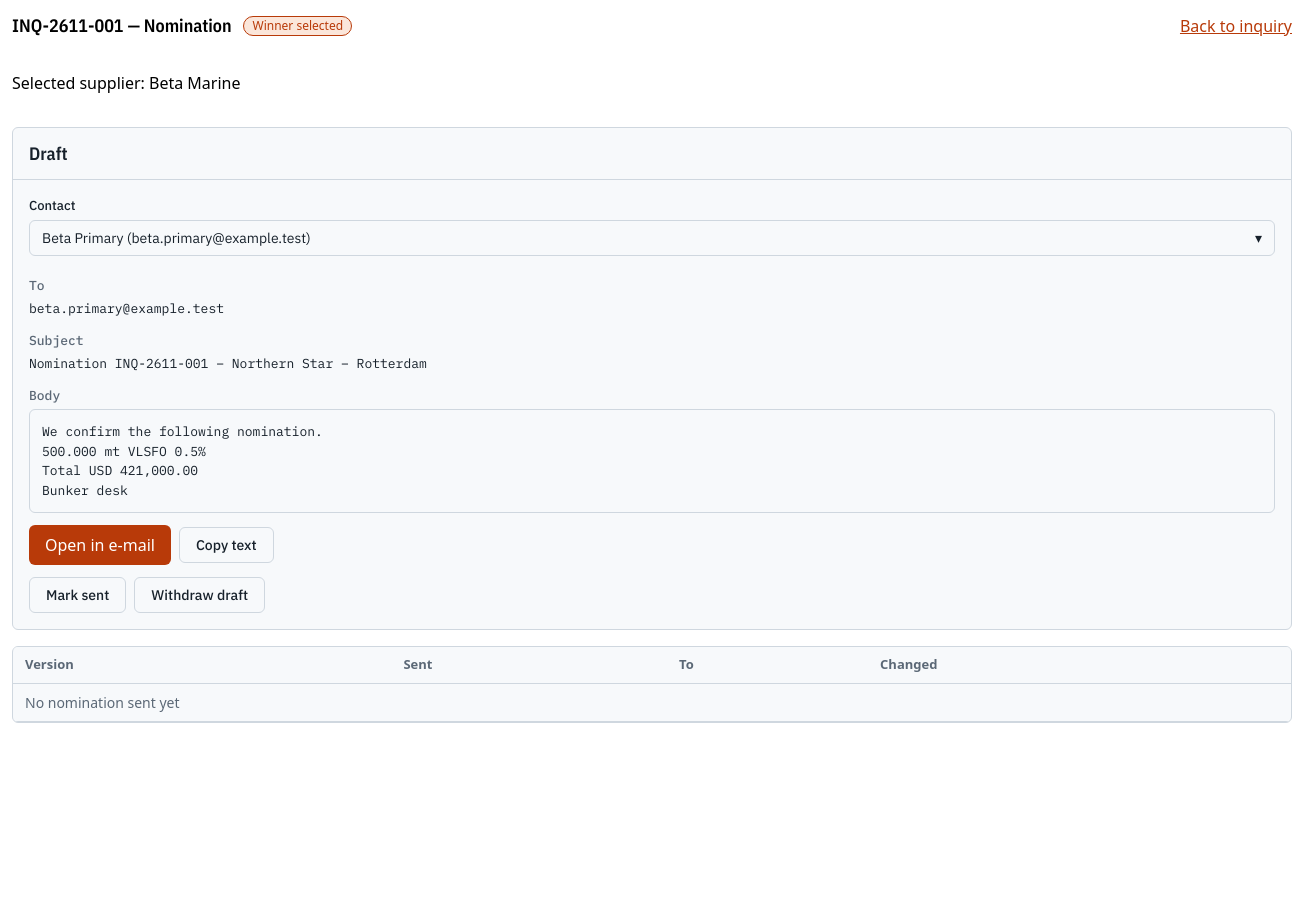
it: Nomination changes › [B5-R11] Mark sent needs a confirm, then the inquiry shows Nominated
The image size is (1304, 912).
Expected: the text "Winner selected" is shown, [244,16,352,36]
Click the button "Mark sent" at (78,595), box [29,577,126,613]
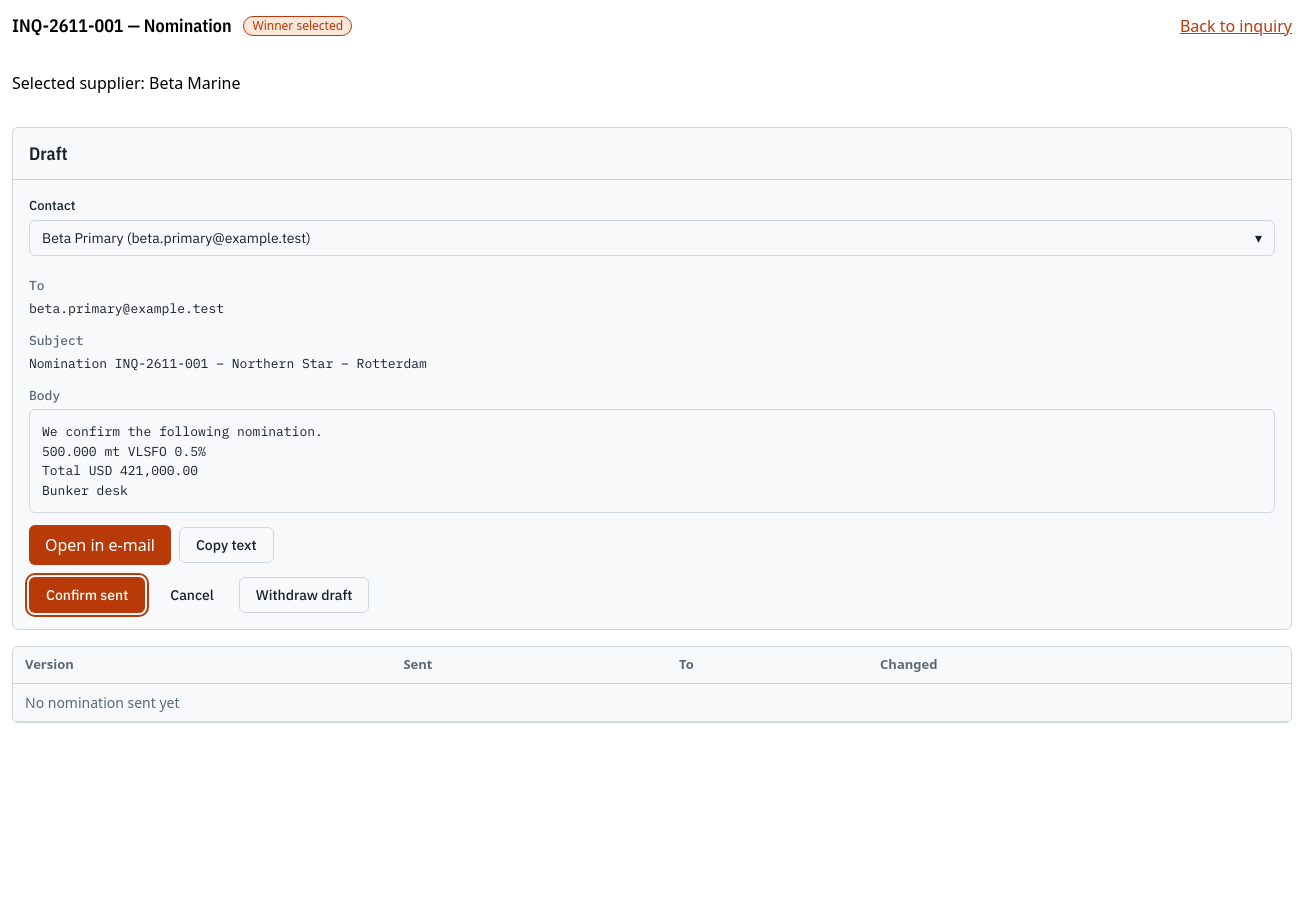
Click the button "Confirm sent" at (87,595), box [29,577,145,613]
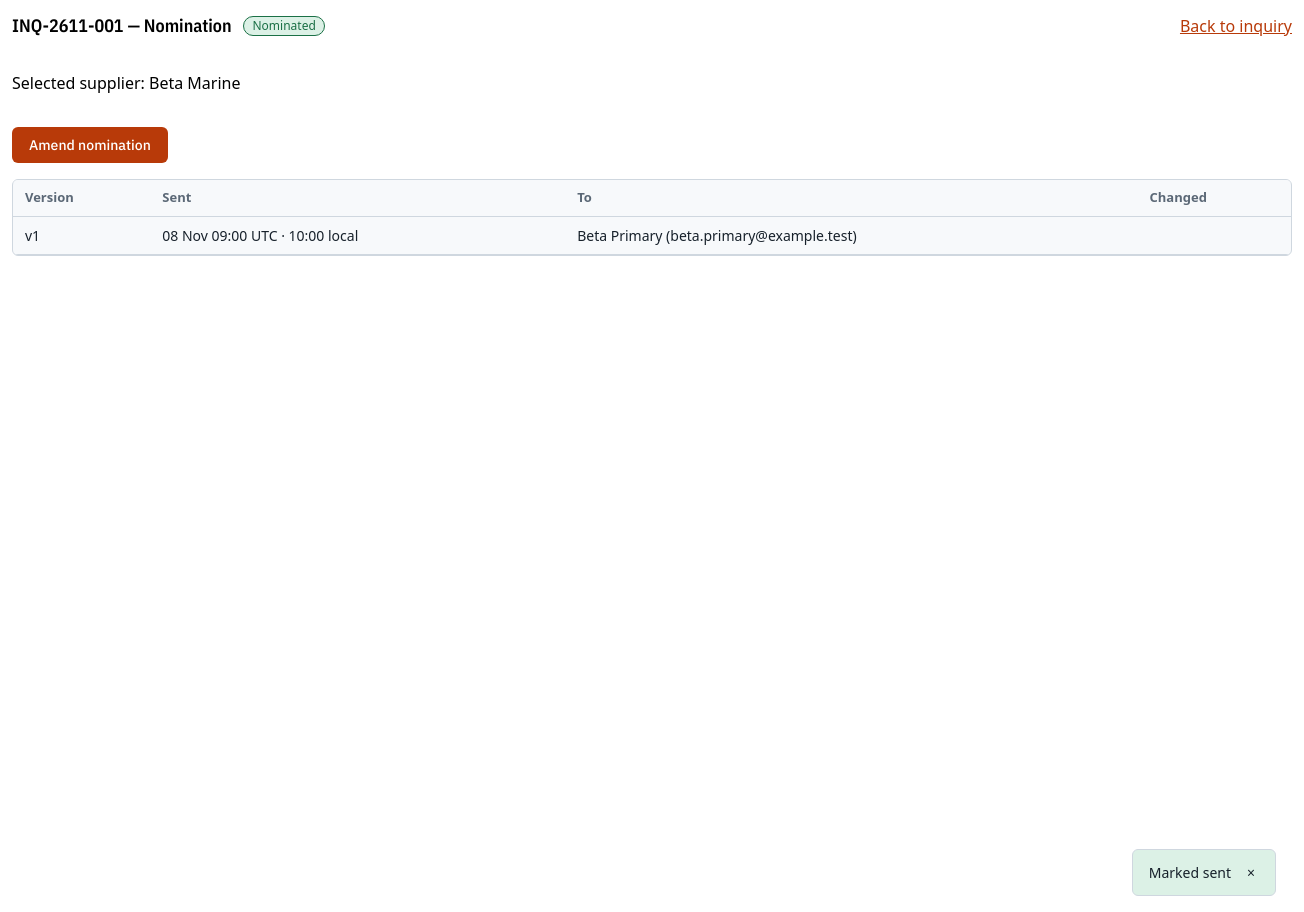
Expected: the button "Mark sent" is not shown
Result: the text "Nominated" is shown at [244,16,325,36]
Result: the button "Amend nomination" is shown at [12,127,168,163]
